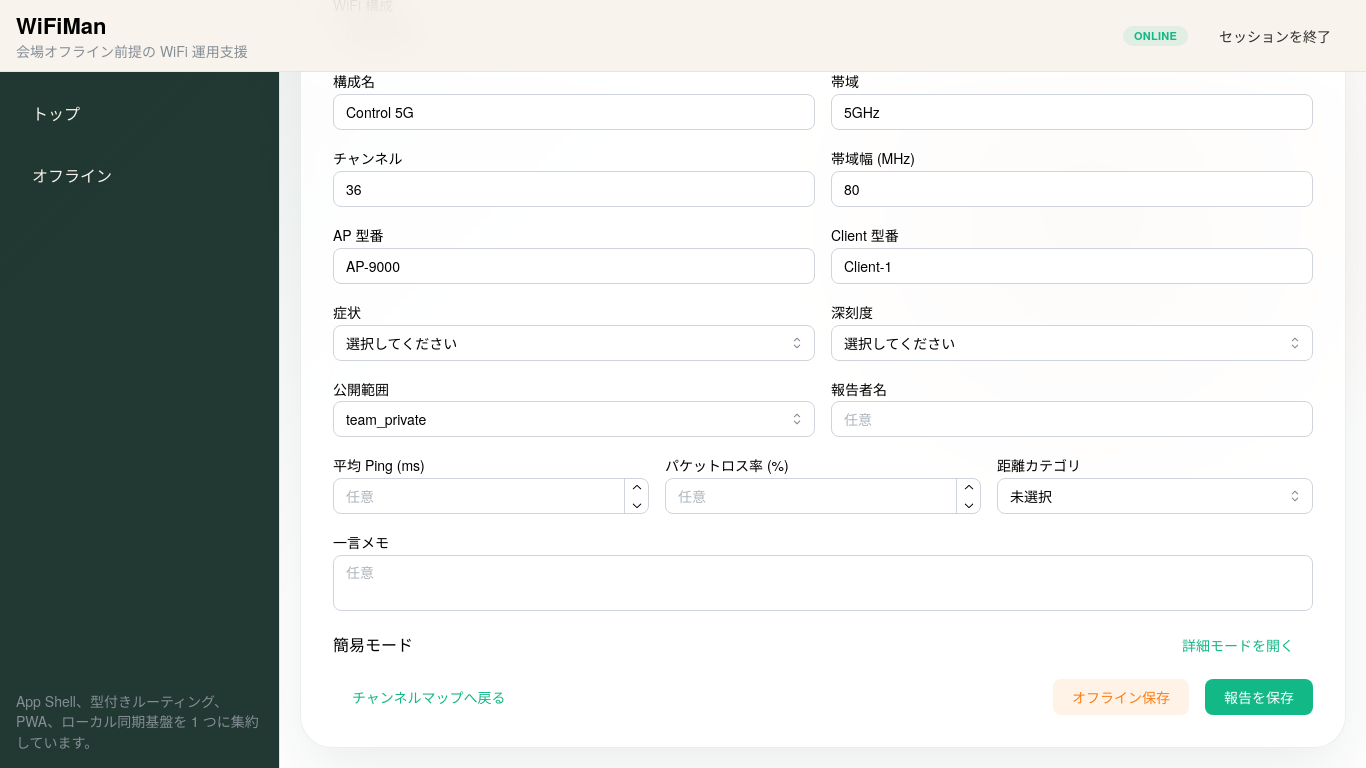
Scenario: team management routes › 作成画面の必須欠落は field error として表示し submit error は出さない
(page scrolled)
Click the button "報告を保存" at x=1259, y=697, box [1205,679,1313,715]
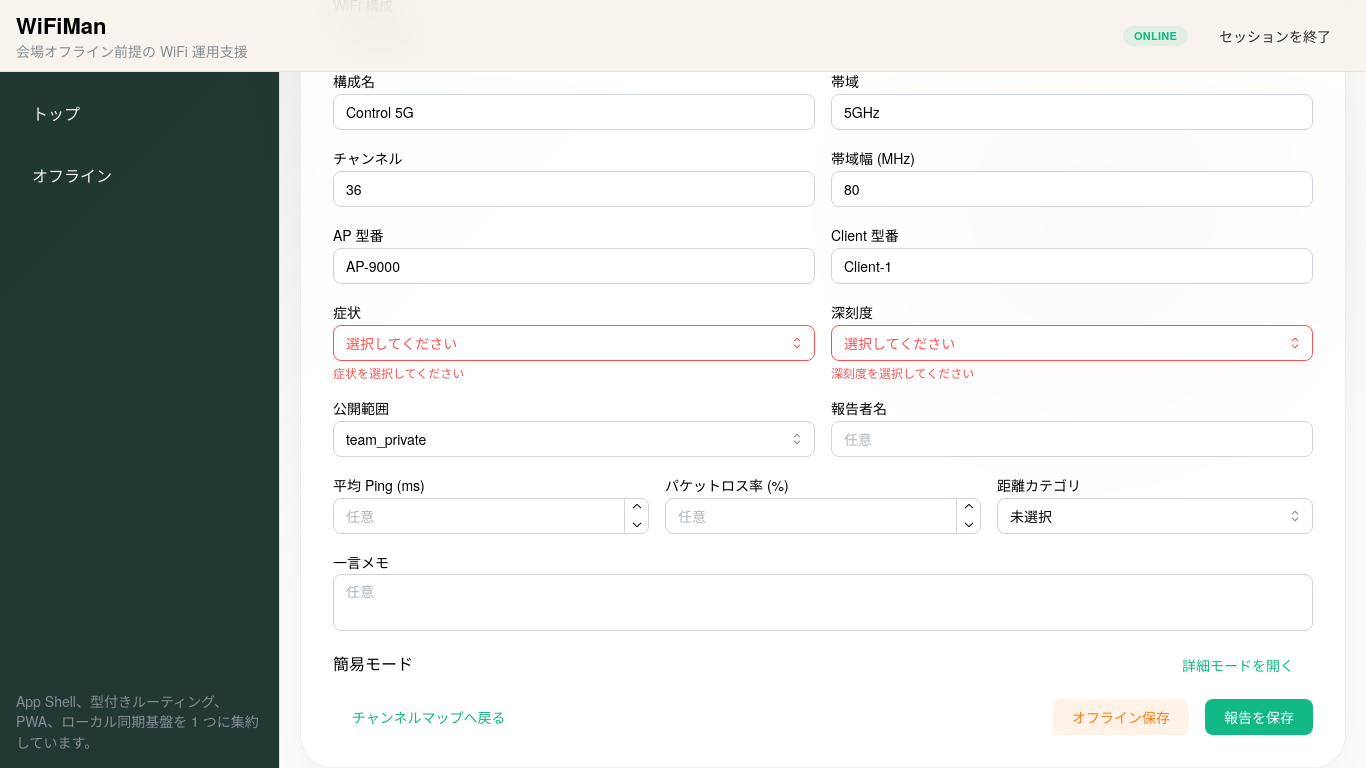
Now the text "症状を選択してください" is shown, box [333,364,464,381]
Now the text "深刻度を選択してください" is shown, box [831,364,974,381]
